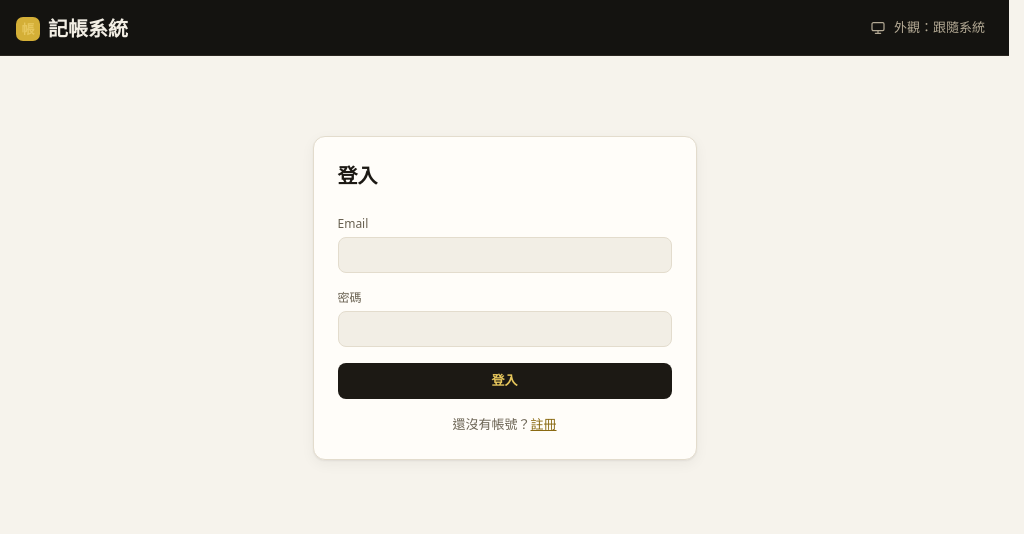
LoginPage › shows the backend message when the credentials are wrong
Type "alice@example.com" into the field labelled "Email" at (504, 255), box x1=338 y1=237 x2=672 y2=273
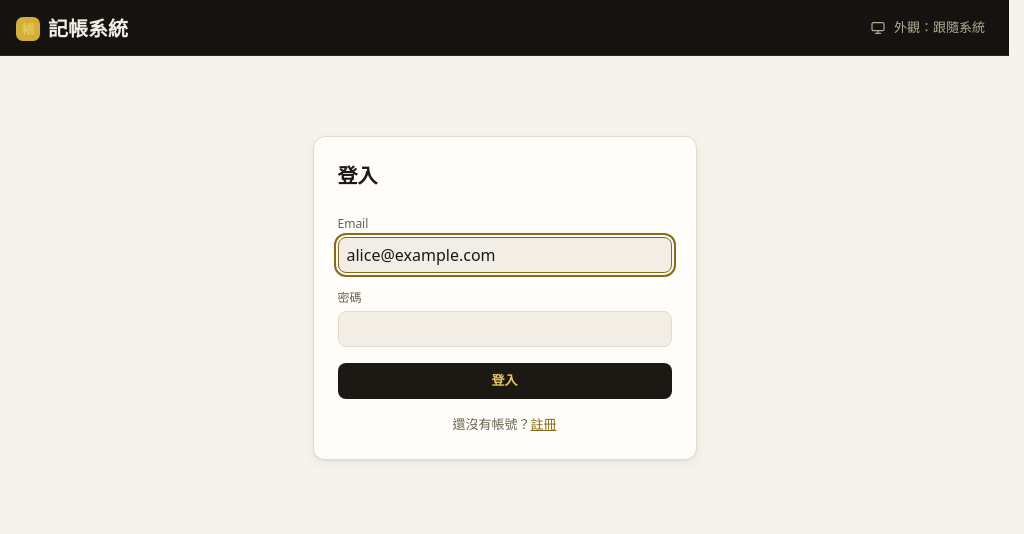
Type "wrong-password" into the password field labelled "密碼" at (504, 329), box x1=338 y1=311 x2=672 y2=347
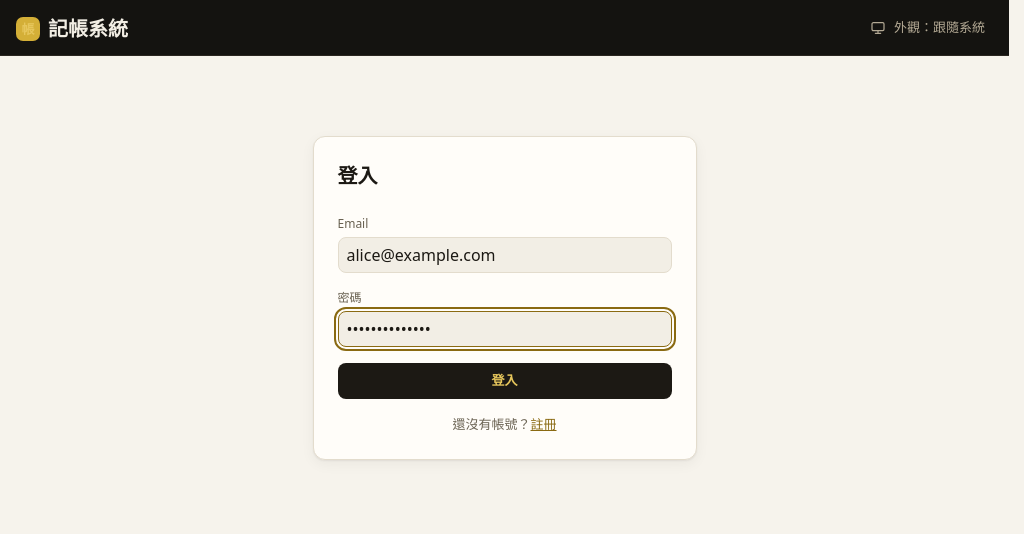
Click the button "登入" at (504, 381), box x1=338 y1=363 x2=672 y2=399
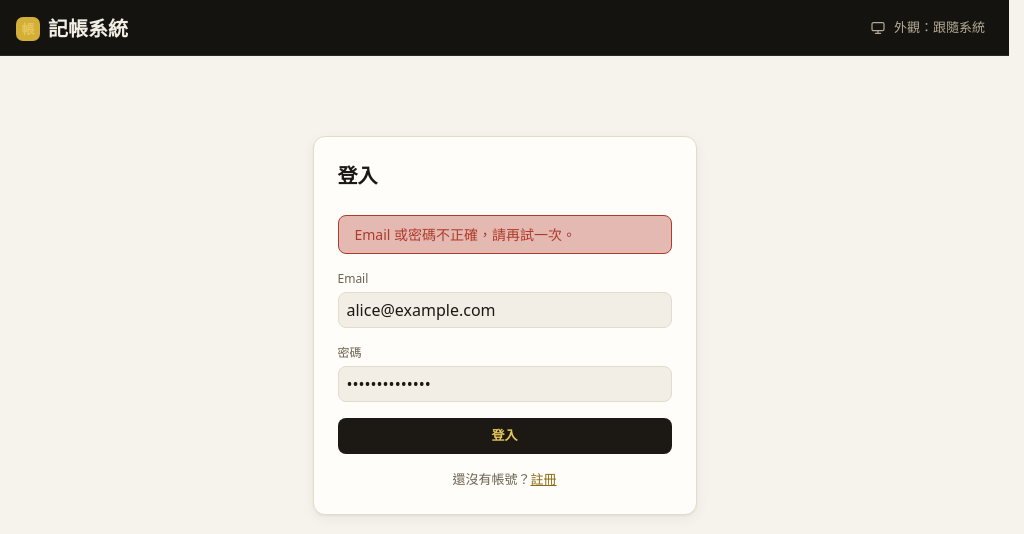
Check: the heading "登入" is shown, box x1=338 y1=162 x2=378 y2=189
Check: the message shows "Email 或密碼不正確", box x1=354 y1=225 x2=576 y2=244
